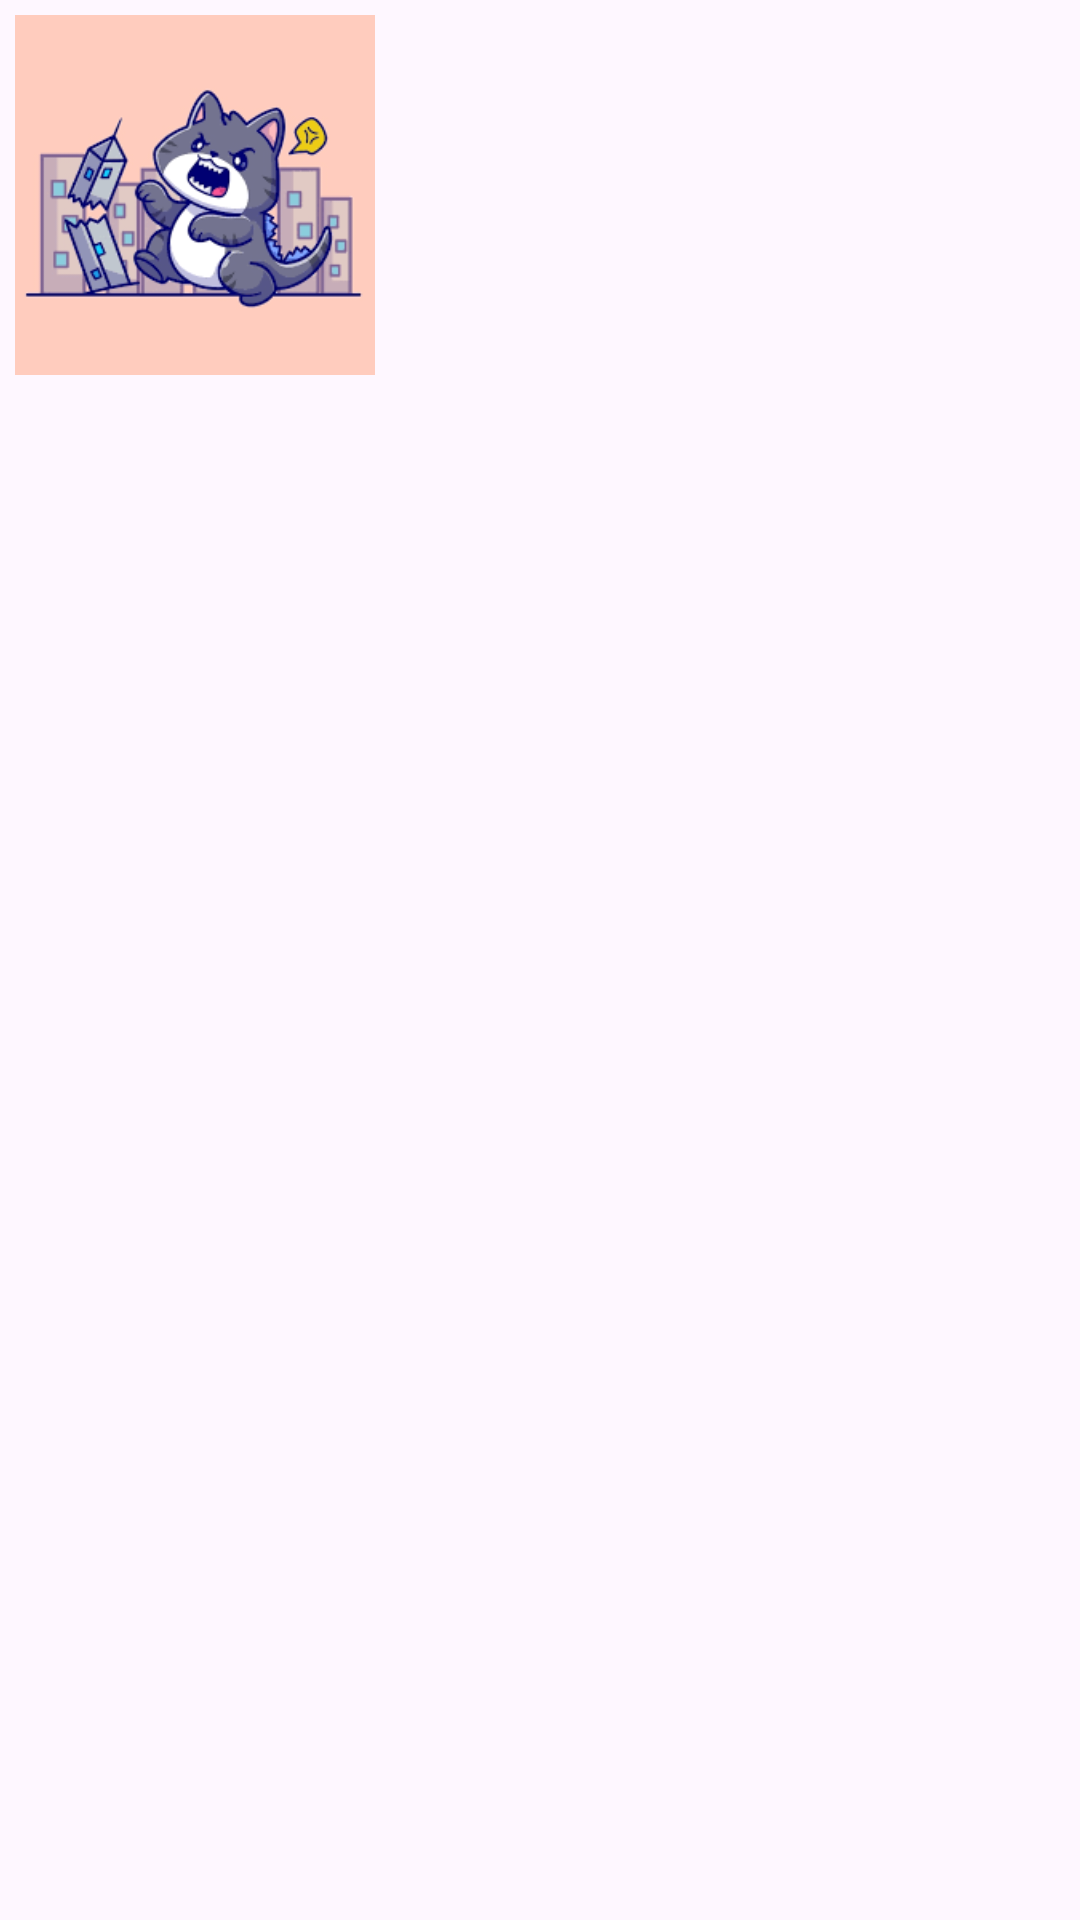

Icons on this 1080 x 1920 Android screen, each with the point to tap as [x,y]:
aggresive cat: [195,195]
